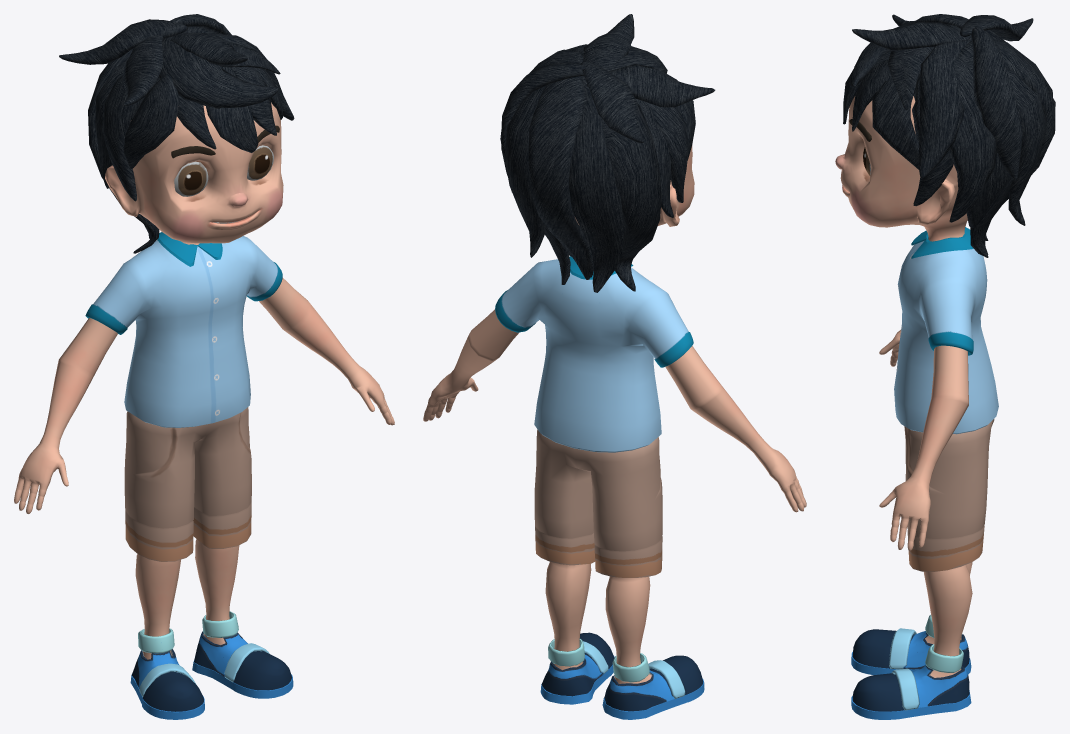
File: Kid_character.fbx
3 views of the same model, side by side, from view 1: azimuth 30°, elevation 25°; view 2: azimuth 150°, elevation 25°; view 3: azimuth 270°, elevation 25° (orthographic). The views are drawn at different scales.
Parts seen in each view (by area): view 1: kid_Body, Tshirt, Hair_Lp, Shorts, Shoe_R, Shoe_L, Eye_L, Eye_R; view 2: Hair_Lp, Tshirt, kid_Body, Shorts, Shoe_L, Shoe_R; view 3: Hair_Lp, kid_Body, Tshirt, Shorts, Shoe_R, Shoe_L.
Part boxes in pixels (x1,y1,x2,y2): kid_Body: (14,102,394,659); Tshirt: (85,232,282,427); Hair_Lp: (59,14,294,253); Shorts: (124,407,251,561); Shoe_R: (192,611,293,698); Shoe_L: (130,628,204,719); Eye_L: (174,161,208,196); Eye_R: (247,145,273,180); Hair_Lp: (500,14,715,292); Tshirt: (495,256,693,452); kid_Body: (423,145,806,683); Shorts: (534,429,662,577); Shoe_L: (602,653,704,719); Shoe_R: (540,632,614,704); Hair_Lp: (843,14,1055,257); kid_Body: (835,96,972,677); Tshirt: (894,227,998,434); Shorts: (904,419,994,571); Shoe_R: (851,644,971,719); Shoe_L: (851,615,971,675).
Bounding box in the file's own units: 363 × 600 × 181.
Materials: 5 (4 with a texture image).
